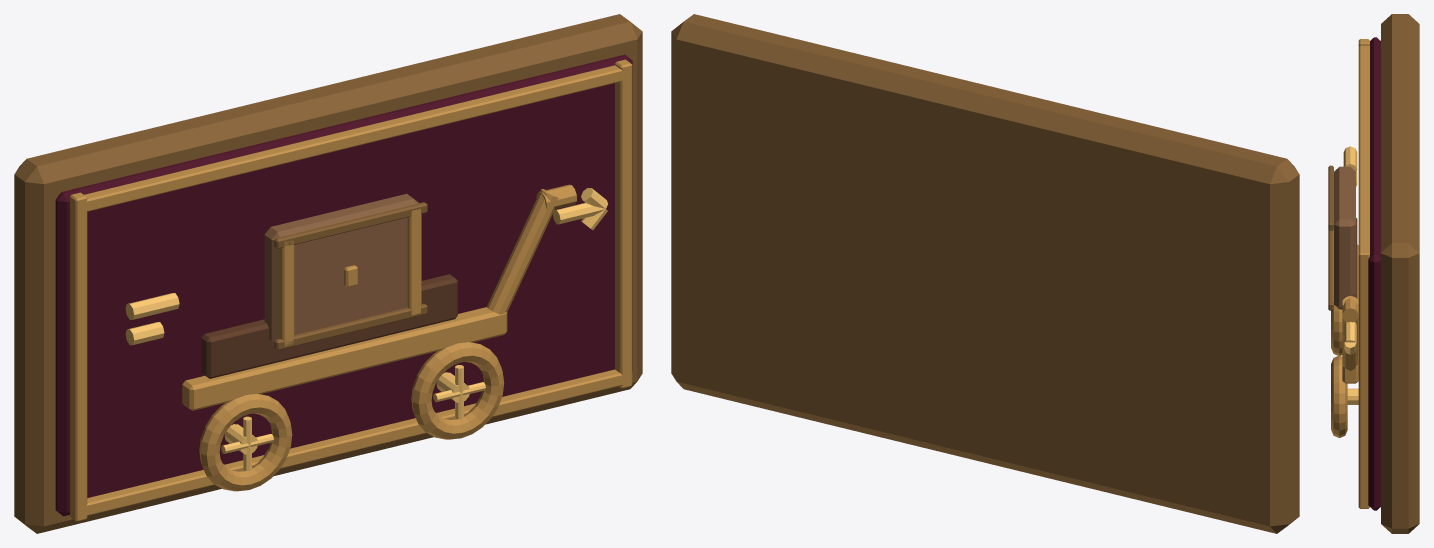
Rendered from SM_Stage3_FilmScene_03.fbx.
3 renders of one model, left to right at view 1: azimuth 30°, elevation 25°; view 2: azimuth 150°, elevation 25°; view 3: azimuth 270°, elevation 25°, orthographic. The views are drawn at different scales.
Parts seen in each view (by area): view 1: SM_Stage3_FilmScene_03; view 2: SM_Stage3_FilmScene_03; view 3: SM_Stage3_FilmScene_03.
Part boxes in pixels (x1,y1,x2,y2): SM_Stage3_FilmScene_03: (14, 14, 642, 533); SM_Stage3_FilmScene_03: (671, 14, 1299, 533); SM_Stage3_FilmScene_03: (1328, 14, 1419, 533).
Bounding box in the file's own units: 204 × 33 × 116.
